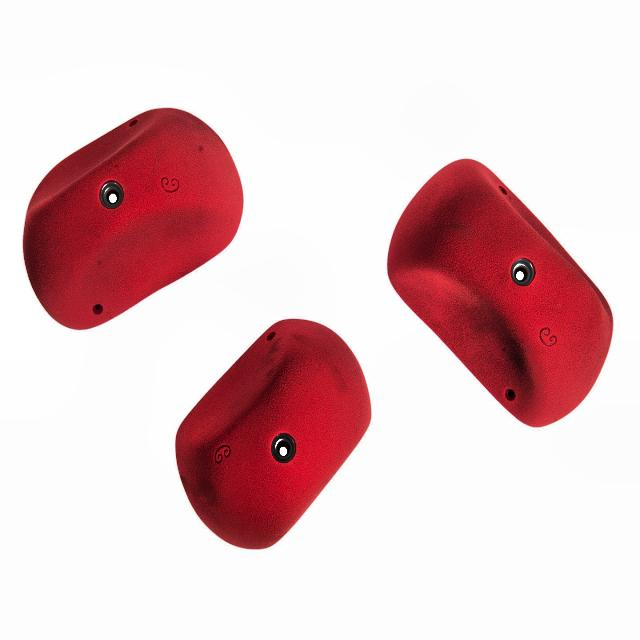Hold: (381, 149, 624, 447), (14, 97, 258, 341), (163, 308, 382, 568)
